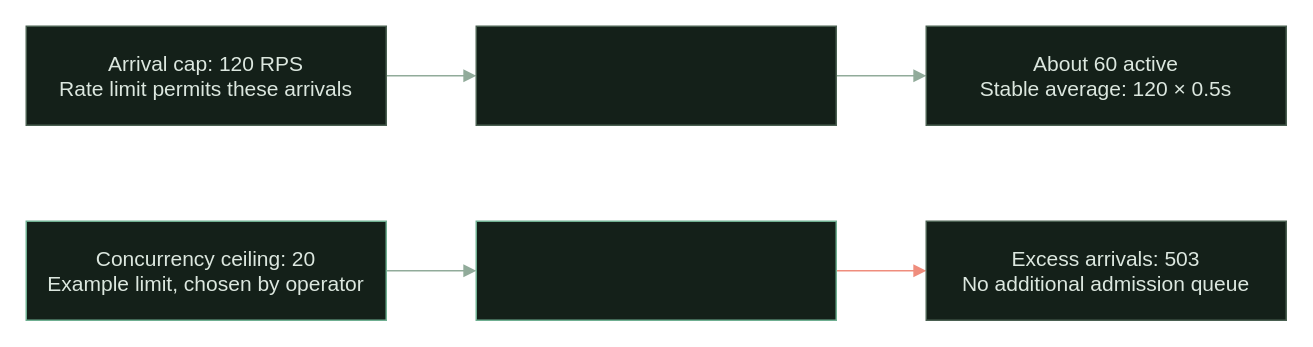
Some shapes in this 1313 by 347 pixel diagram are drawn without their labels. The shapes that lost their labels are listed below. From the top down, each one's centre as x and y in pixels, then its label:
At [655,75]: "Duration rises to 500ms Previously 50ms at the same rate".
At [655,270]: "At most 20 active Slots held until handlers return".
